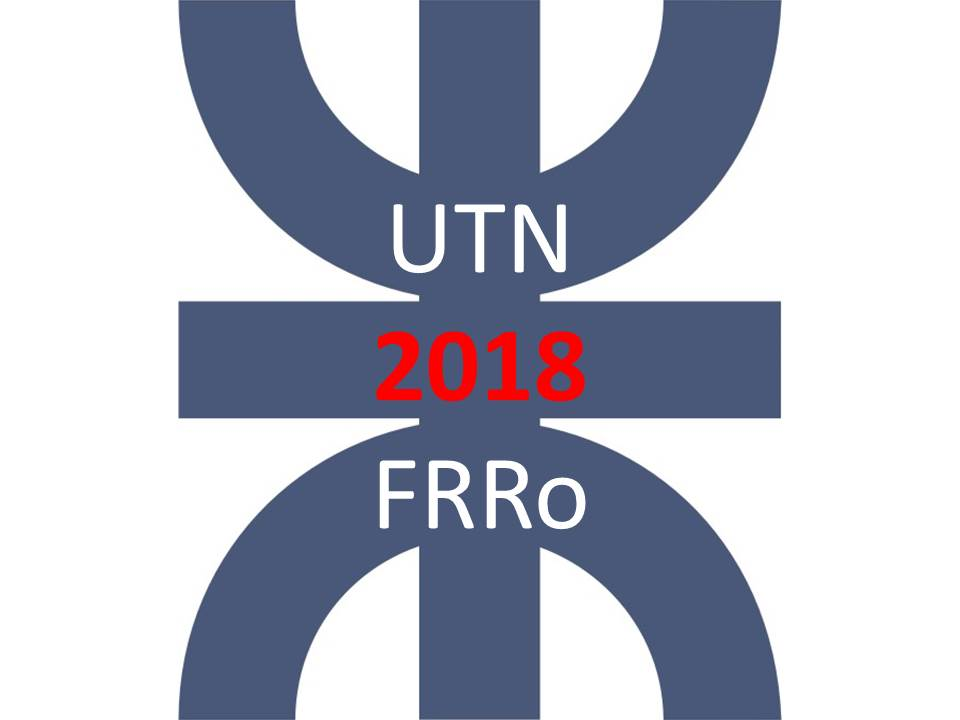utn: (195, 11, 783, 707)
